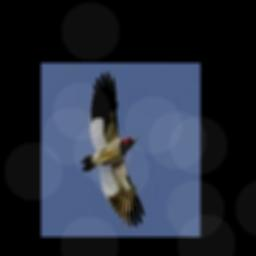Woodpecker: (80, 71, 144, 227)
